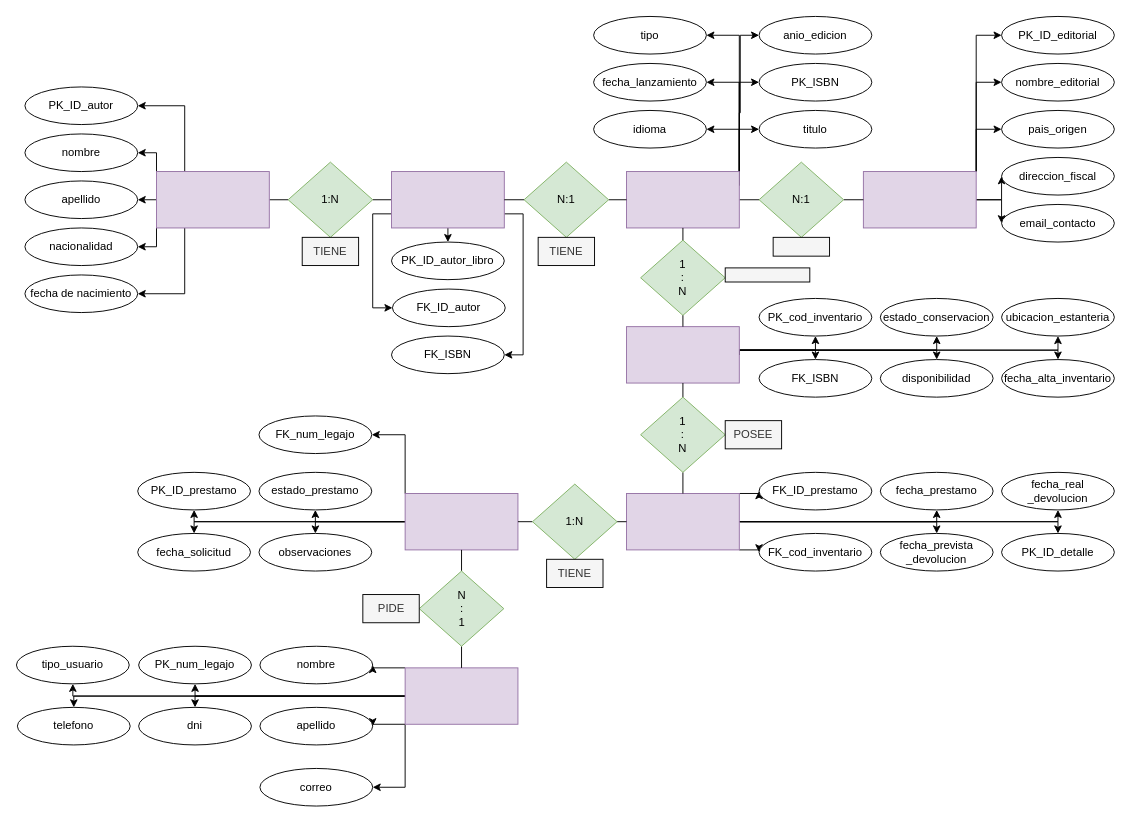
Image size: 1131x823. Some labels were removed from this diagram. The shapes that lost their labels are listed below. From the top down, each one's centre as x and y in pixels, then its label:
At (212,199): "AUTOR".
At (447,199): "Libro_Autor".
At (682,199): "LIBRO".
At (919,199): "EDITORIAL".
At (801,246): "PUBLICA".
At (767,274): "VARIACIONES".
At (682,354): "EJEMPLAR".
At (461,521): "PRESTAMO".
At (682,521): "DETALLE_ PRESTAMO_ EJEMPLAR".
At (461,695): "USUARIO".
